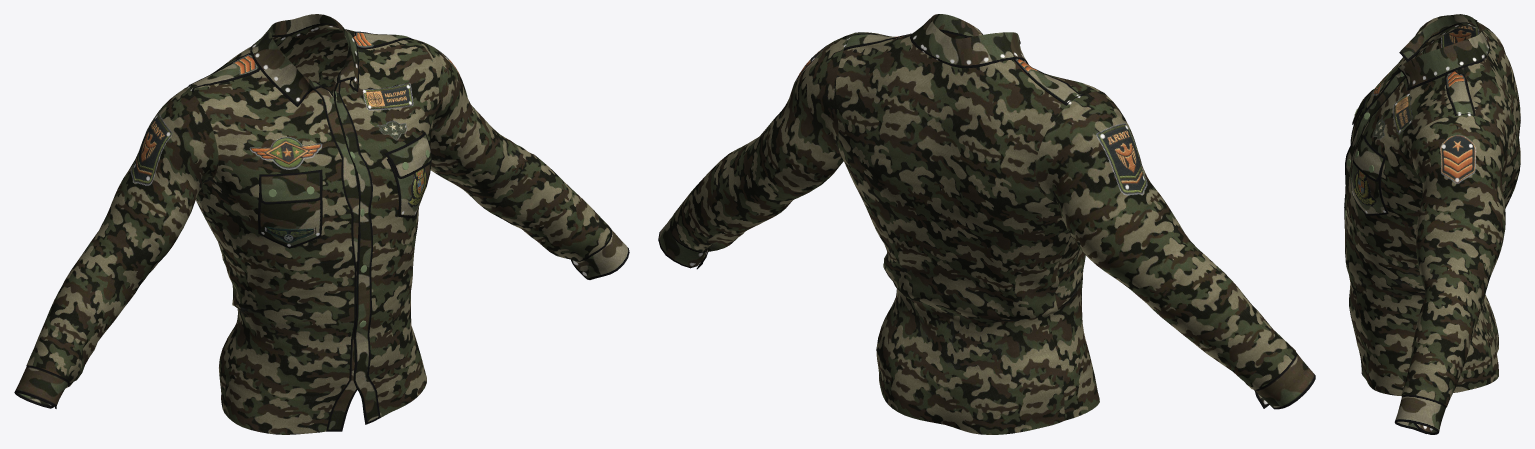
Rendered from military_uniform.gltf.
The picture shows the model from 3 angles, left to right: view 1: azimuth 30°, elevation 25°; view 2: azimuth 150°, elevation 25°; view 3: azimuth 270°, elevation 25°; orthographic projection. The views are drawn at different scales.
Parts seen in each view (by area): view 1: military_uniform; view 2: military_uniform; view 3: military_uniform.
Part boxes in pixels (x1,y1,x2,y2): military_uniform: [14, 14, 629, 434]; military_uniform: [658, 14, 1315, 434]; military_uniform: [1344, 14, 1520, 434].
Bounding box in the file's own units: 117 × 67.64 × 31.84.
